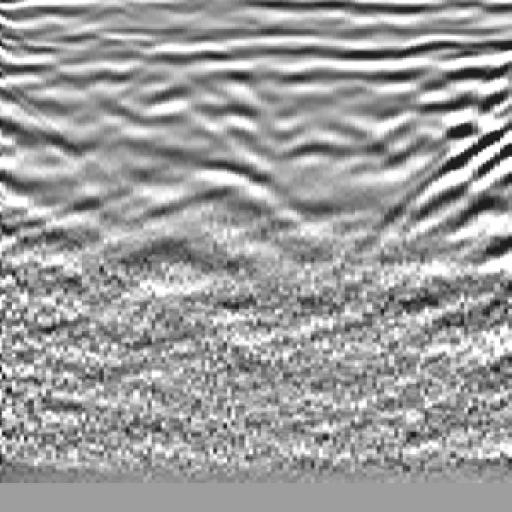metalic: (140, 37, 319, 289)
nonmetalic: (402, 50, 512, 283)
